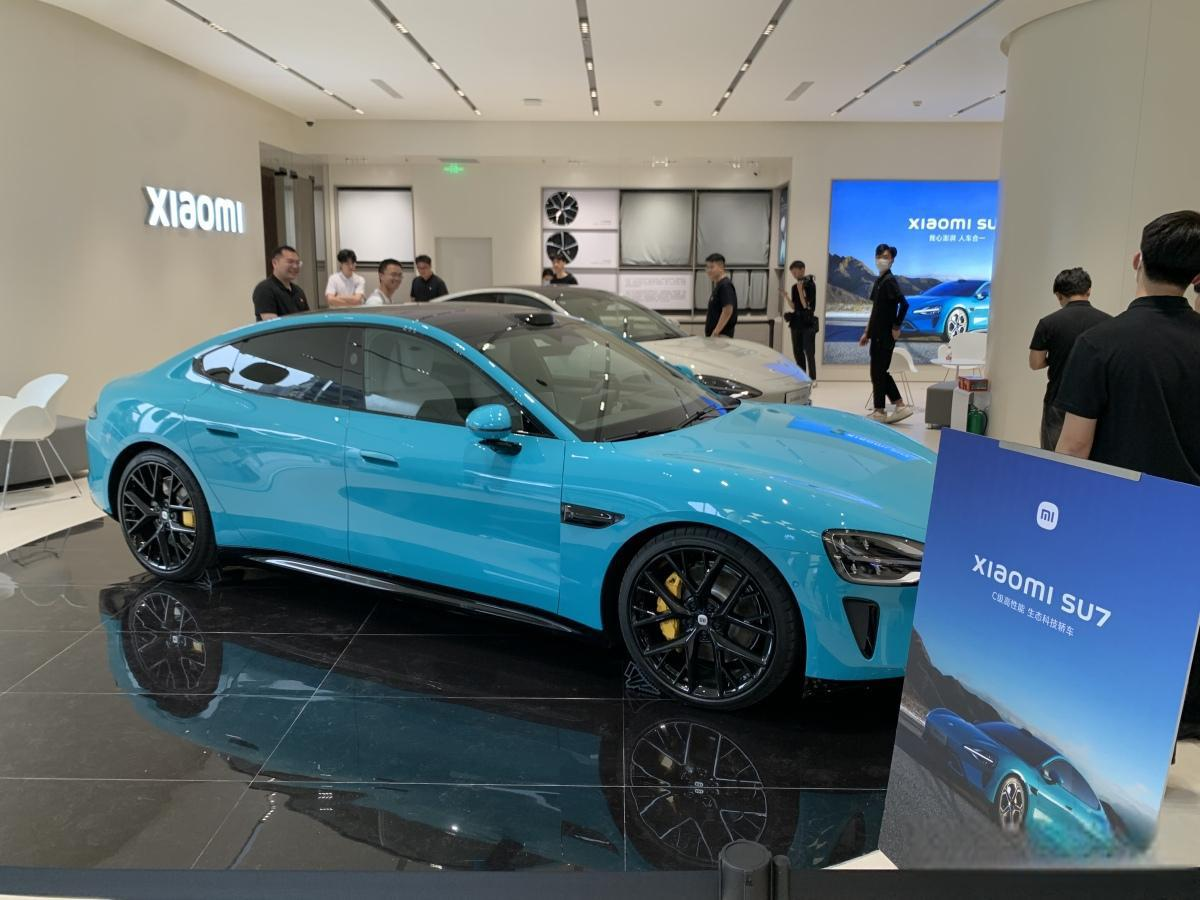su7: (83, 284, 971, 710)
